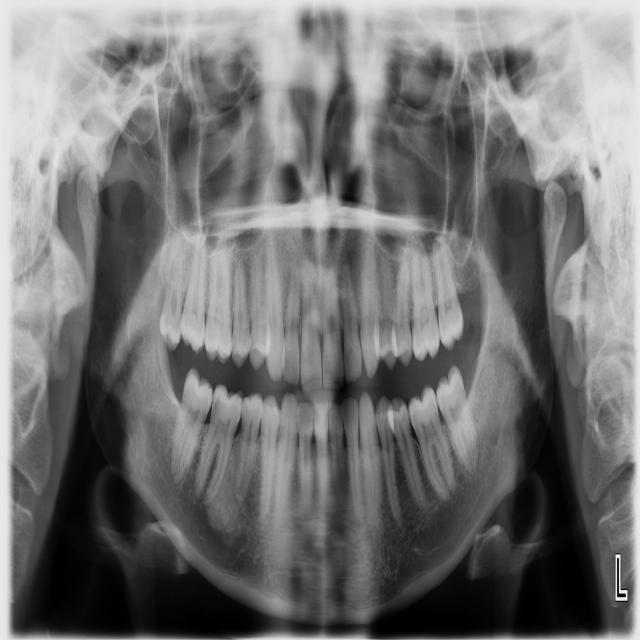mandibula: (77, 166, 566, 623)
